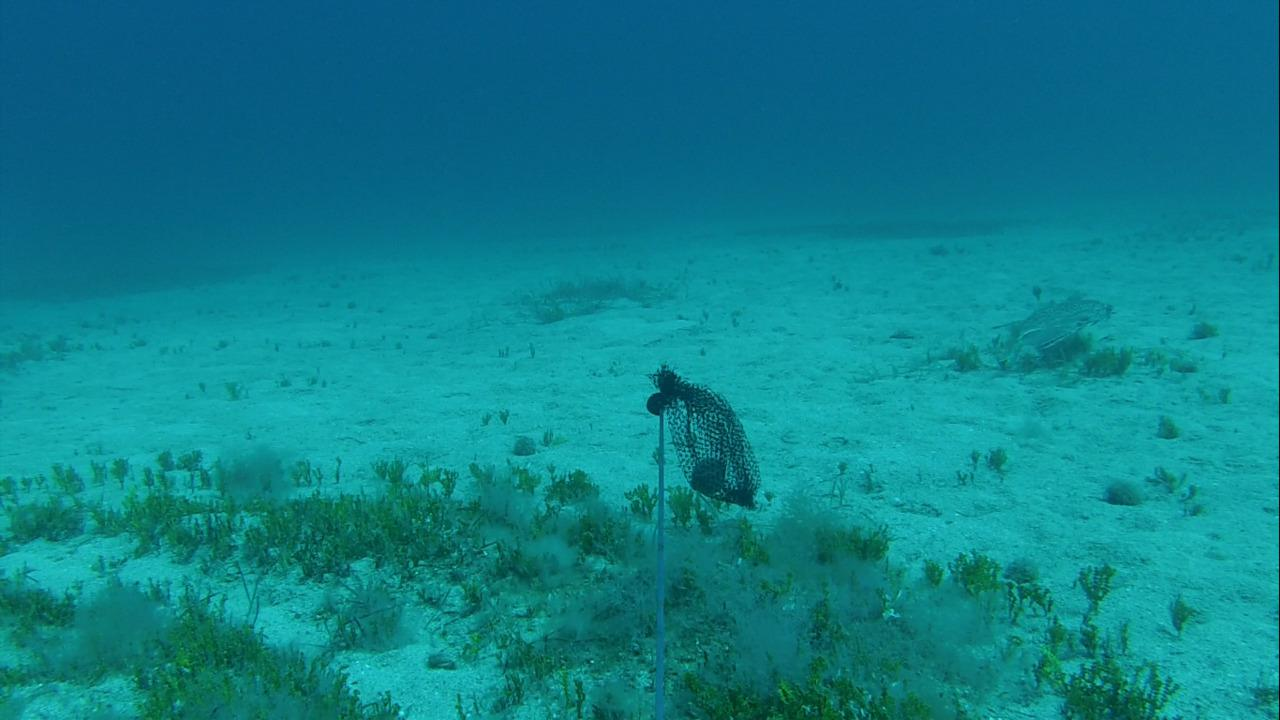dactylopterus: (982, 290, 1120, 351)
